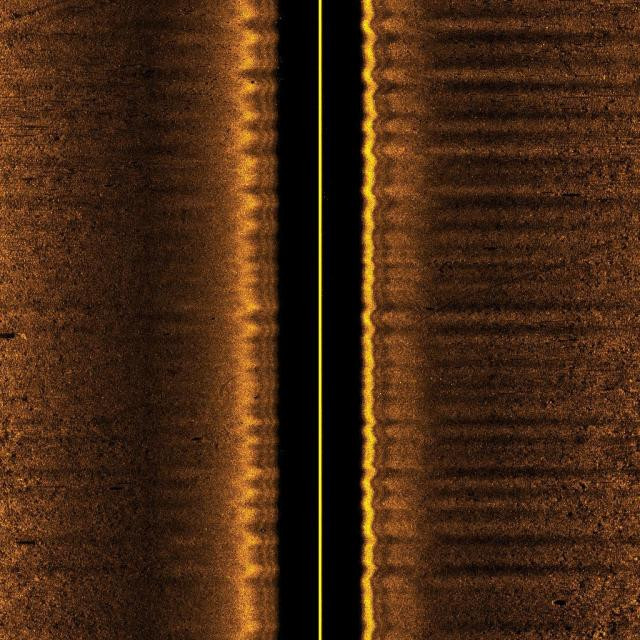other: (2, 328, 36, 342)
